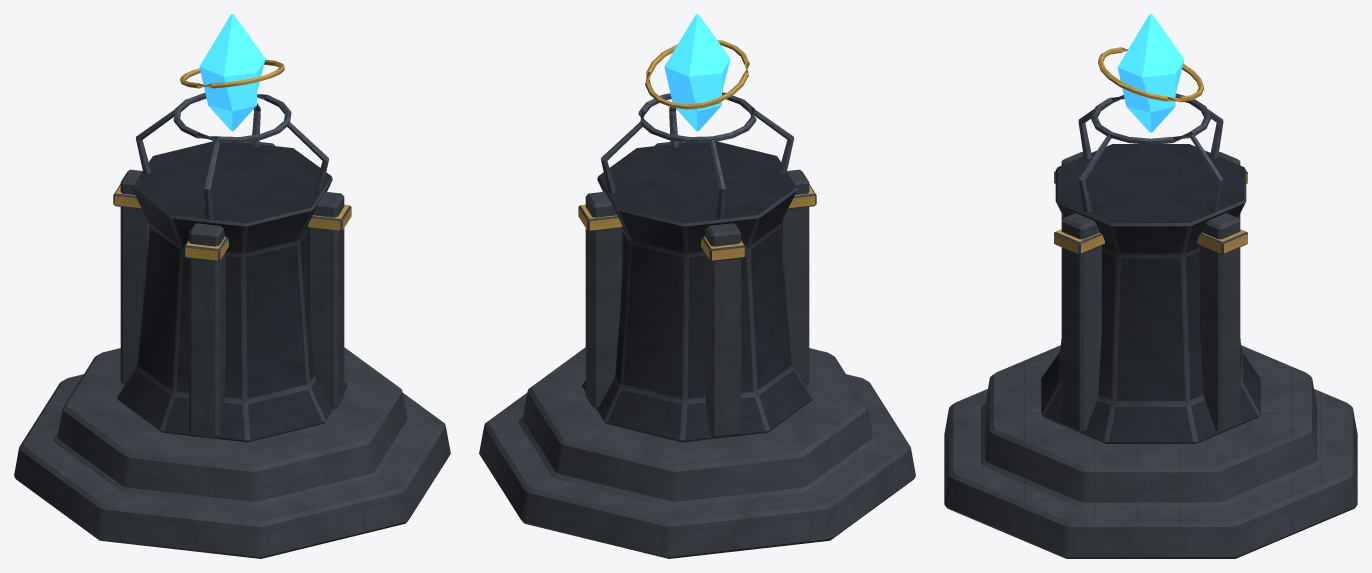
File: kit_dark_shrine.glb
3 renders of one model, left to right at view 1: azimuth 30°, elevation 25°; view 2: azimuth 150°, elevation 25°; view 3: azimuth 270°, elevation 25°, orthographic.
Parts seen in each view (by area): view 1: DarkShrineBase, ShrineCrystal; view 2: DarkShrineBase, ShrineCrystal; view 3: DarkShrineBase, ShrineCrystal.
Boxes of the visible parts, x1,y1,x2,y2 form: DarkShrineBase: (14,93,450,558); ShrineCrystal: (180,14,284,131); DarkShrineBase: (479,92,915,558); ShrineCrystal: (645,14,749,131); DarkShrineBase: (944,93,1357,558); ShrineCrystal: (1098,14,1203,132).
Size of the model in its own units: 2.62 by 3.2 by 2.62.
Materials: 5 (4 with a texture image).
